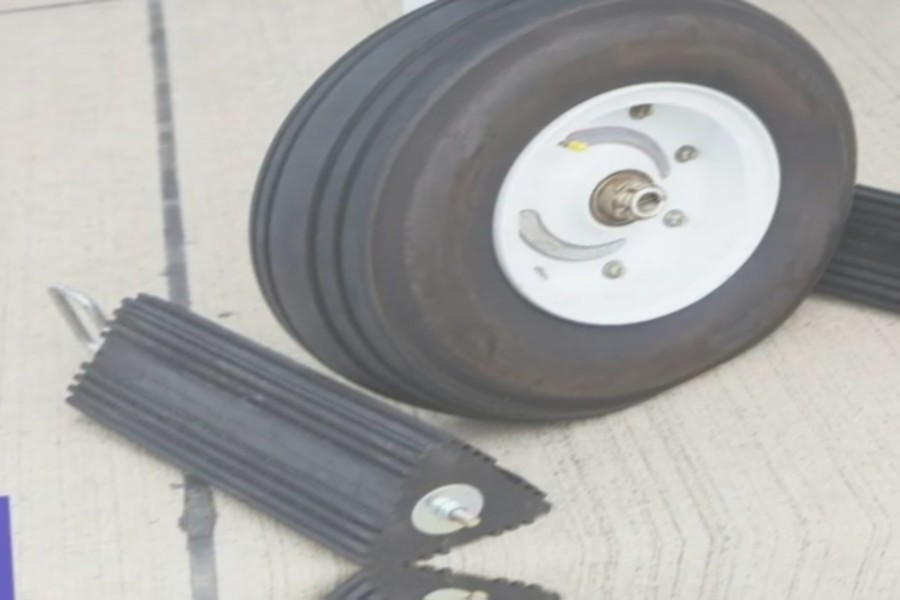chock: (43, 267, 559, 592), (704, 160, 900, 361)
wheel: (229, 0, 892, 441)
